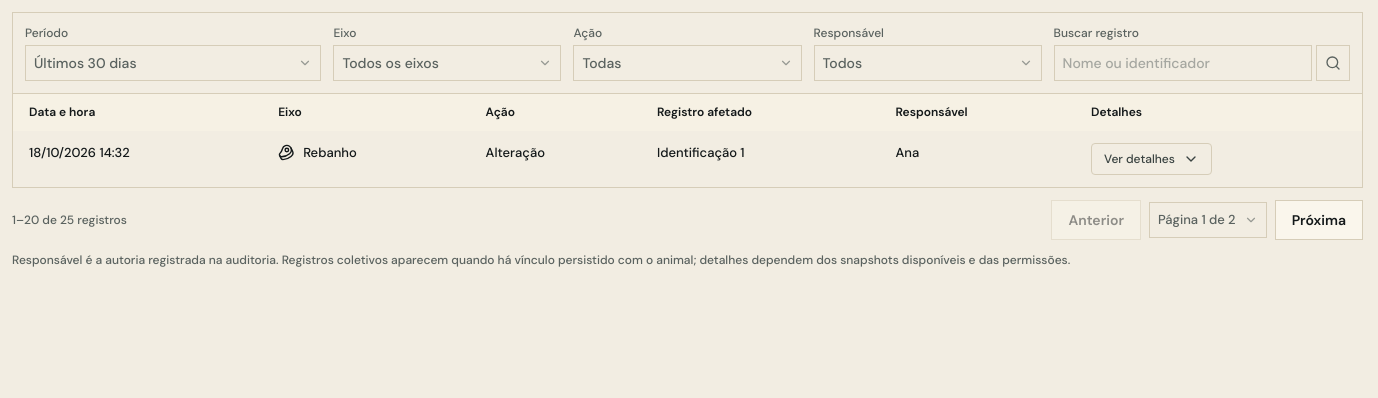
it: AuditoriaAnimal › ignora página antiga que resolve após filtro e recomeça da página1
This screenshot has width=1378, height=398.
Check: the text "Identificação 1" is shown, box [641,131,879,187]
Click the button "Próxima" at (1319, 220), box [1275,200,1363,240]
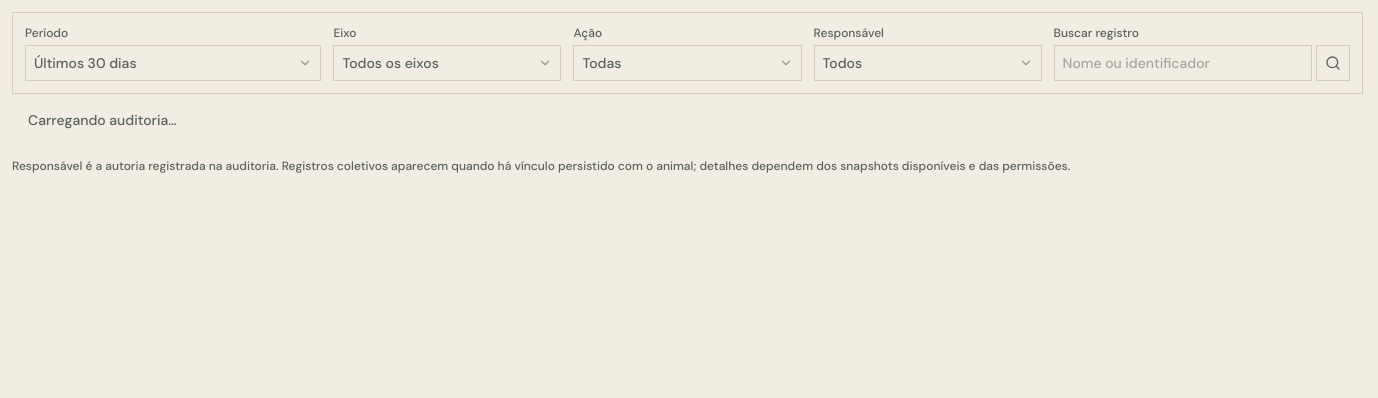
Click the dropdown labelled "eixo" at (447, 63), box [333,45,561,81]
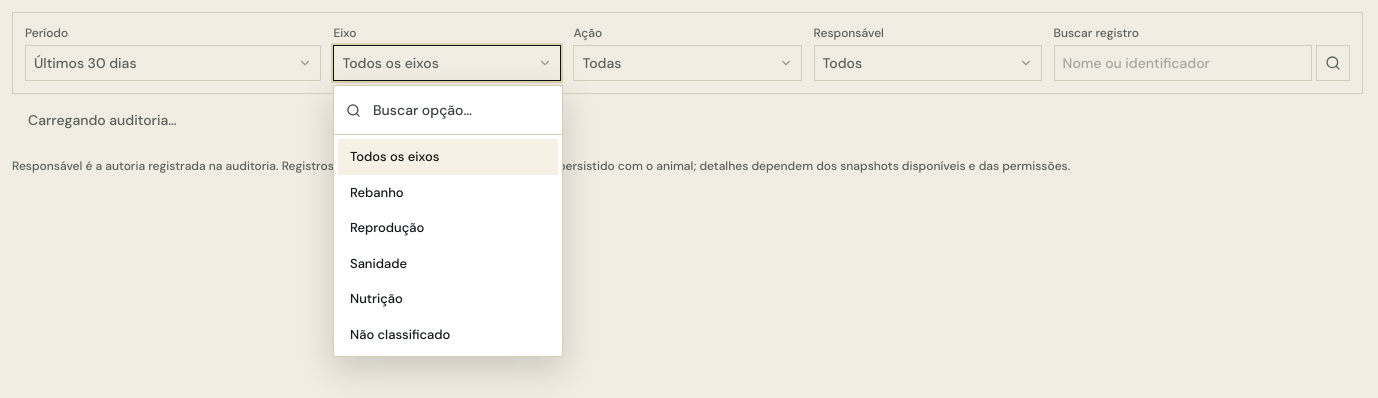
Click the option "Sanidade" at (379, 263), box [350,254,407,272]
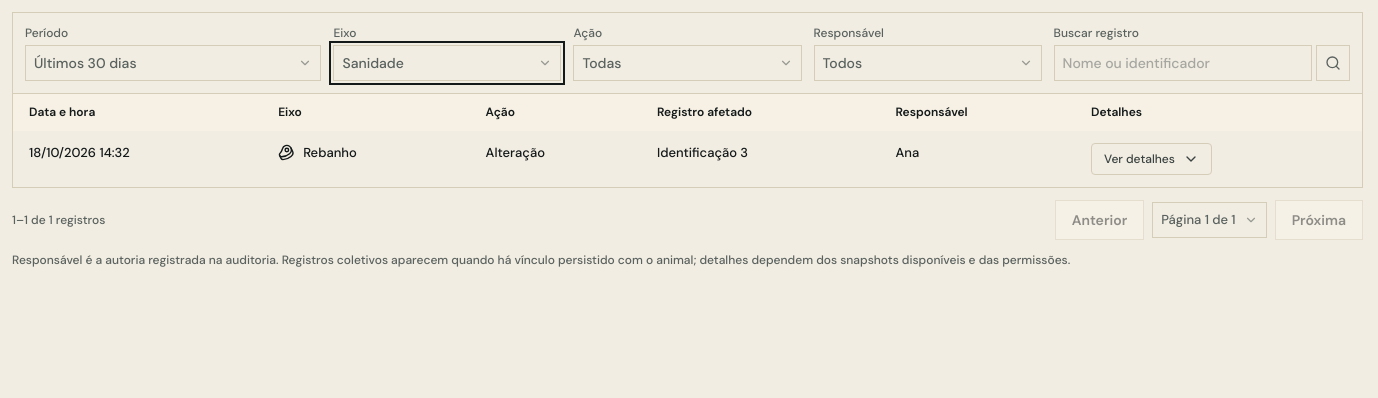
Check: the text "Identificação 3" is shown, box [641,131,879,187]
Check: the text "1–1 de 1 registros" is shown, box [12,212,105,228]
